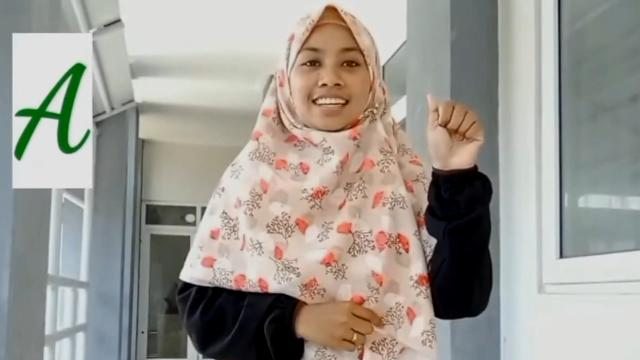A: (424, 93, 488, 171)
